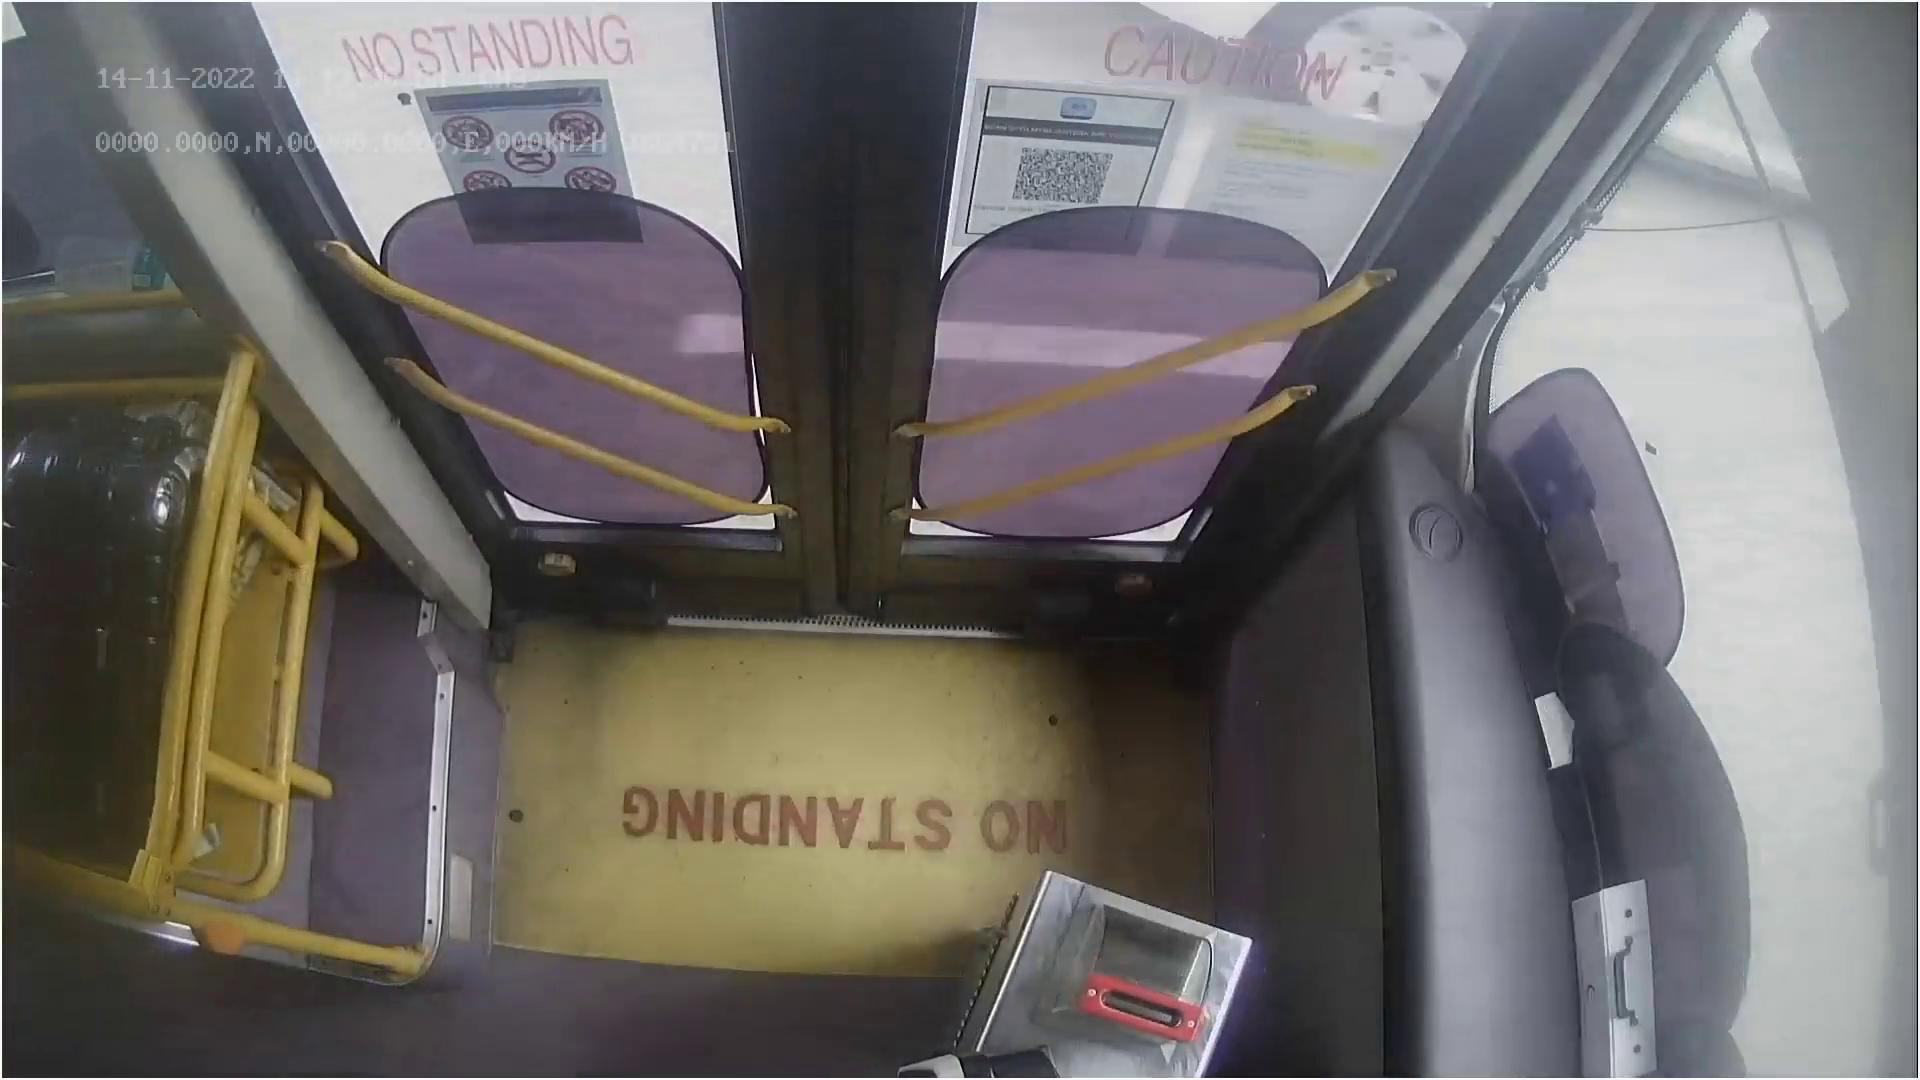close: (286, 0, 1441, 157)
